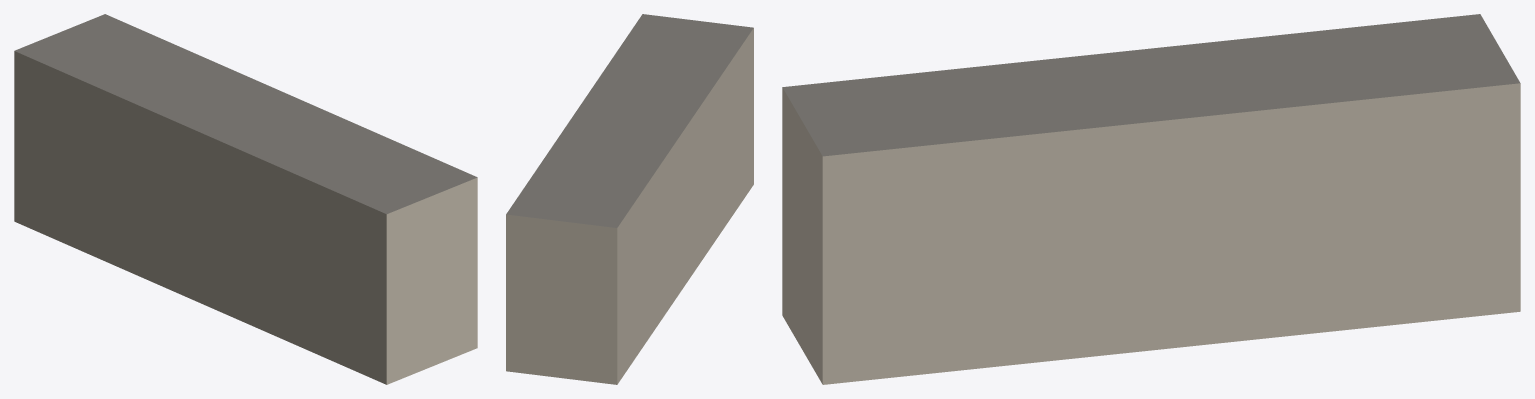
3 views of the same model, side by side, from view 1: azimuth 30°, elevation 25°; view 2: azimuth 150°, elevation 25°; view 3: azimuth 270°, elevation 25° (orthographic). The views are drawn at different scales.
Visible parts, largest first — view 1: HP-w389701946; view 2: HP-w389701946; view 3: HP-w389701946.
Boxes of the visible parts, x1,y1,x2,y2 form: HP-w389701946: (14, 14, 477, 384); HP-w389701946: (506, 14, 753, 384); HP-w389701946: (782, 14, 1520, 384).
Size of the model in its own units: 24.07 by 18 by 52.7.
